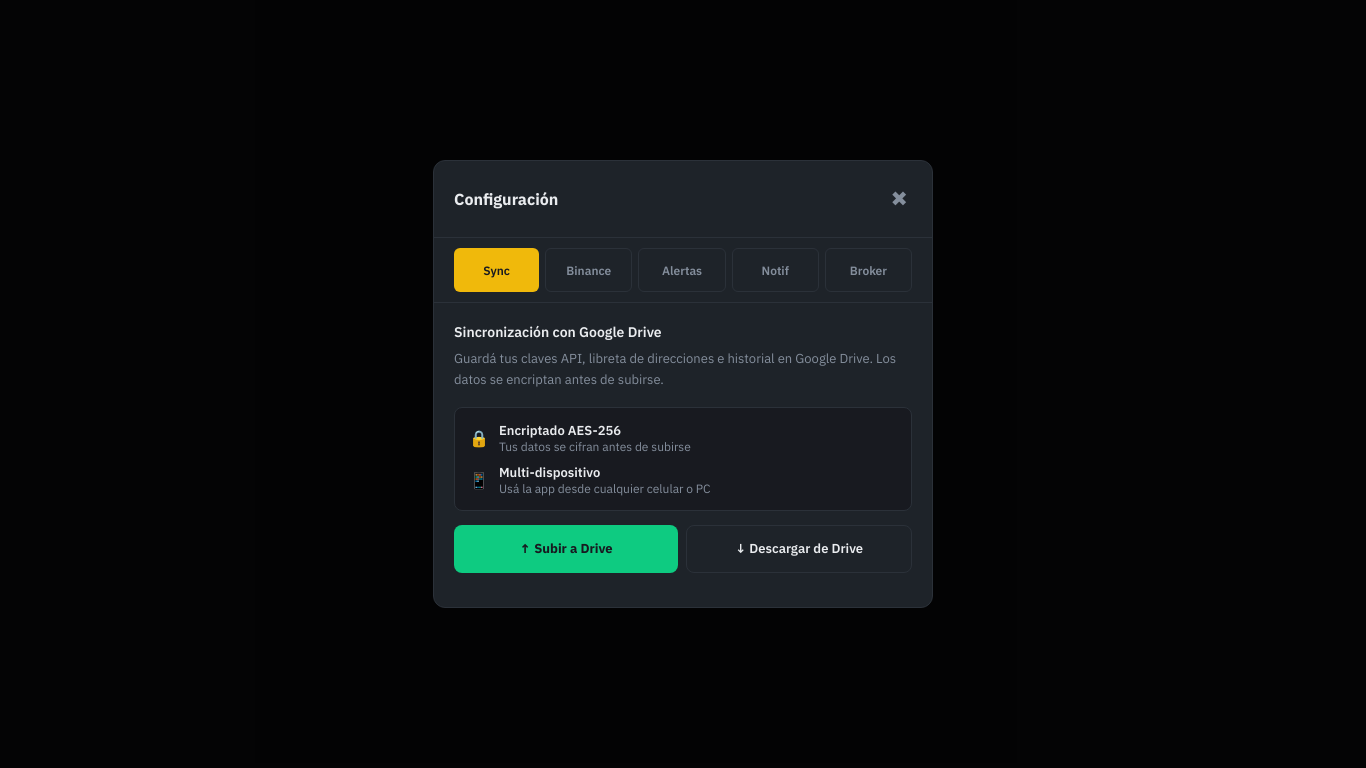
Test: Settings — tab switching › click en tab Alertas → muestra umbrales de alertas
Step 1. Click the button "Alertas" → (682, 270), box [638,248,726,292]
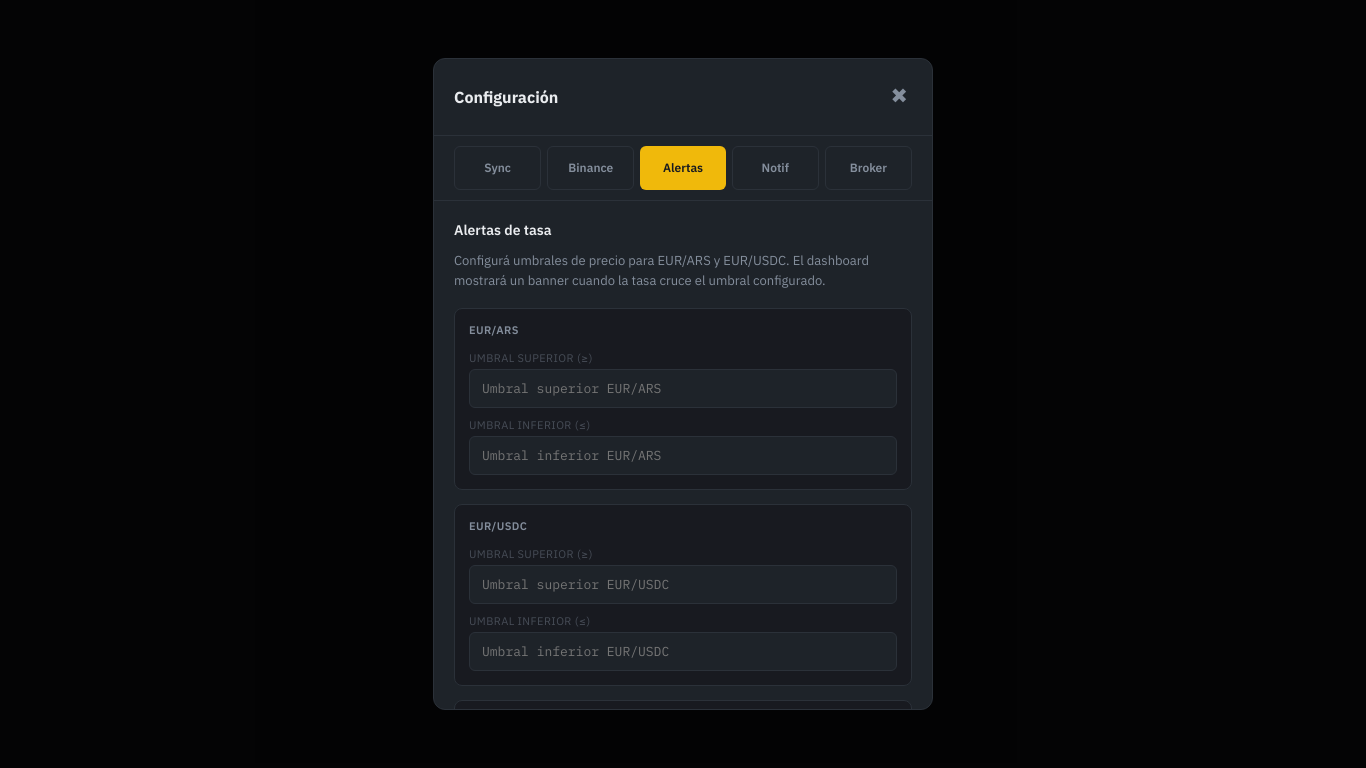
Now the heading "Alertas de tasa" is shown, box [454,221,552,239]
